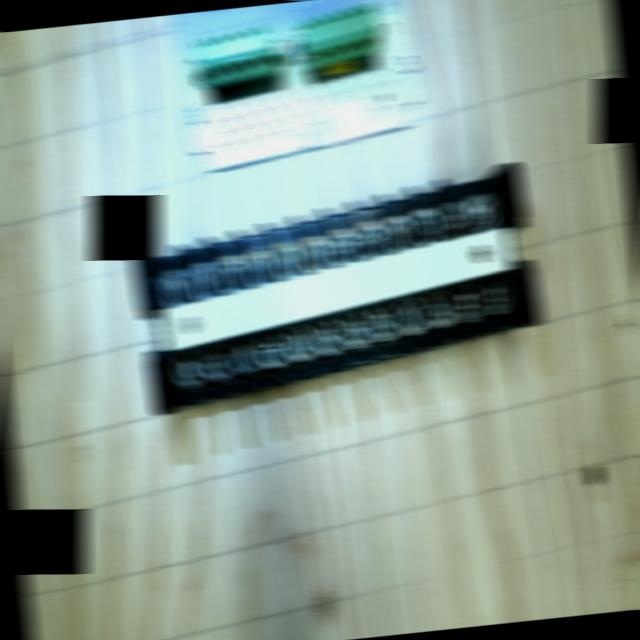Flathead_Block: (116, 162, 554, 414)
Terminal_1: (291, 1, 386, 70), (190, 23, 281, 86)
